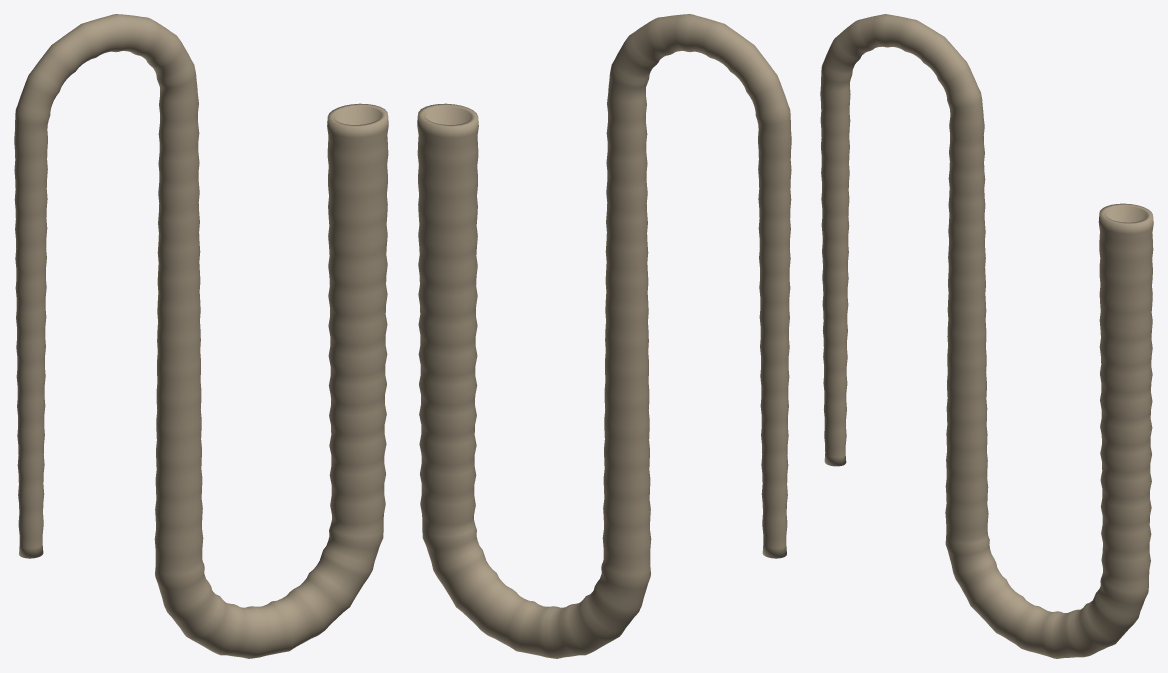
Rendered from diplomoceras.glb.
3 views of the same model, side by side, from view 1: azimuth 30°, elevation 25°; view 2: azimuth 150°, elevation 25°; view 3: azimuth 330°, elevation 25° (orthographic). The views are drawn at different scales.
Parts seen in each view (by area): view 1: Continuous ribbed trombone shell; view 2: Continuous ribbed trombone shell; view 3: Continuous ribbed trombone shell.
Boxes of the visible parts, left/top/right/bottom form: Continuous ribbed trombone shell: left=14, top=14, right=388, bottom=658; Continuous ribbed trombone shell: left=417, top=14, right=791, bottom=658; Continuous ribbed trombone shell: left=820, top=14, right=1153, bottom=658.
Size of the model in its own units: 0.5153 by 0.9 by 0.0676.
